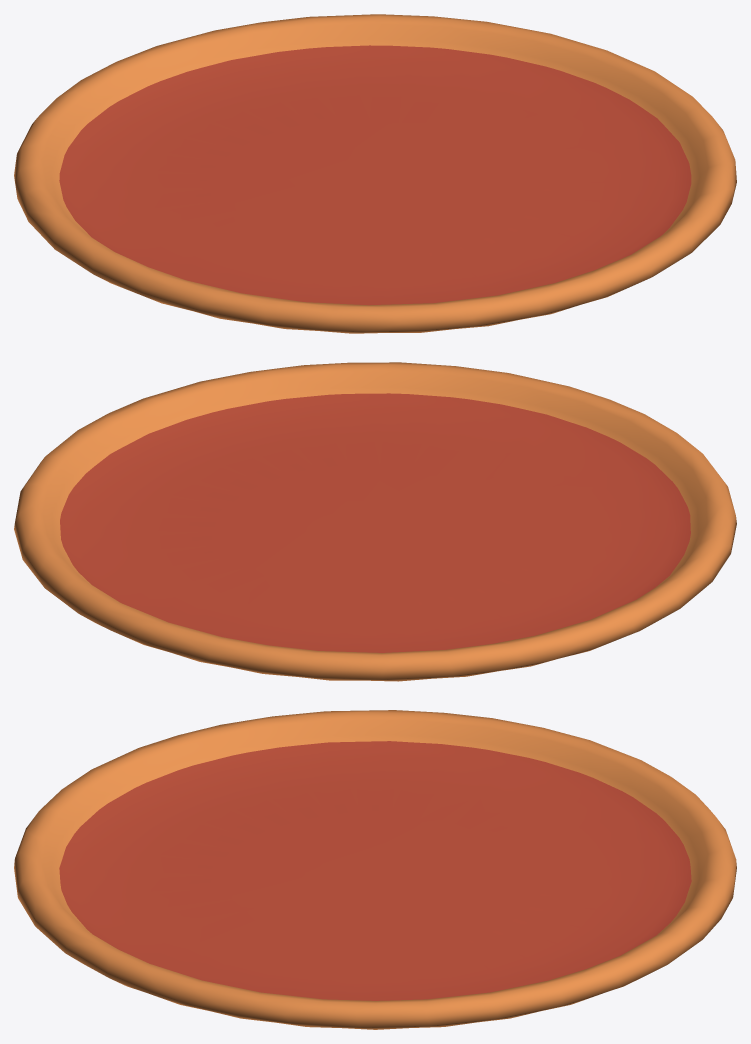
File: pizza_z_sosem.gltf
3 views of the same model, one above another, from view 1: azimuth 30°, elevation 25°; view 2: azimuth 150°, elevation 25°; view 3: azimuth 270°, elevation 25° (orthographic).
Visible parts, largest first — view 1: Cylinder, Circle.002; view 2: Cylinder, Circle.002; view 3: Cylinder, Circle.002.
Part boxes in pixels (x1,y1,x2,y2): Cylinder: (14, 14, 736, 333); Circle.002: (59, 45, 691, 305); Cylinder: (14, 362, 736, 681); Circle.002: (60, 393, 690, 652); Cylinder: (14, 710, 736, 1029); Circle.002: (59, 741, 691, 1000).
Bounding box in the file's own units: 1.44 × 0.0648 × 1.44.
Materials: 2 (2 with a texture image).
